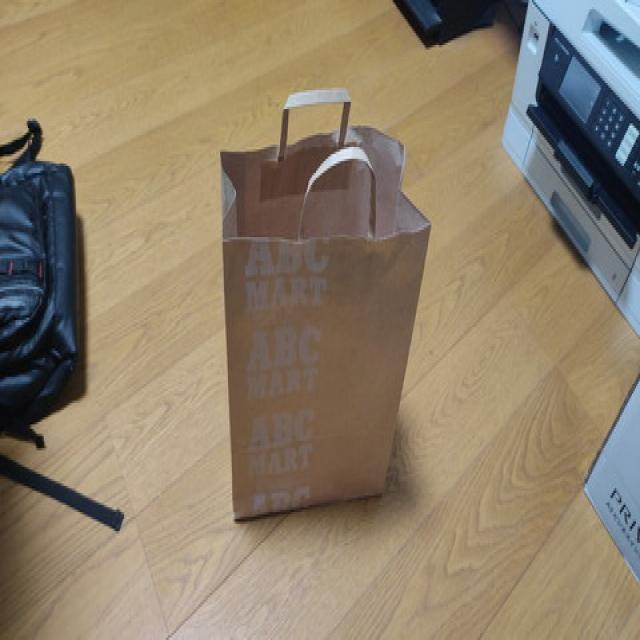paper bag: (216, 88, 435, 524)
